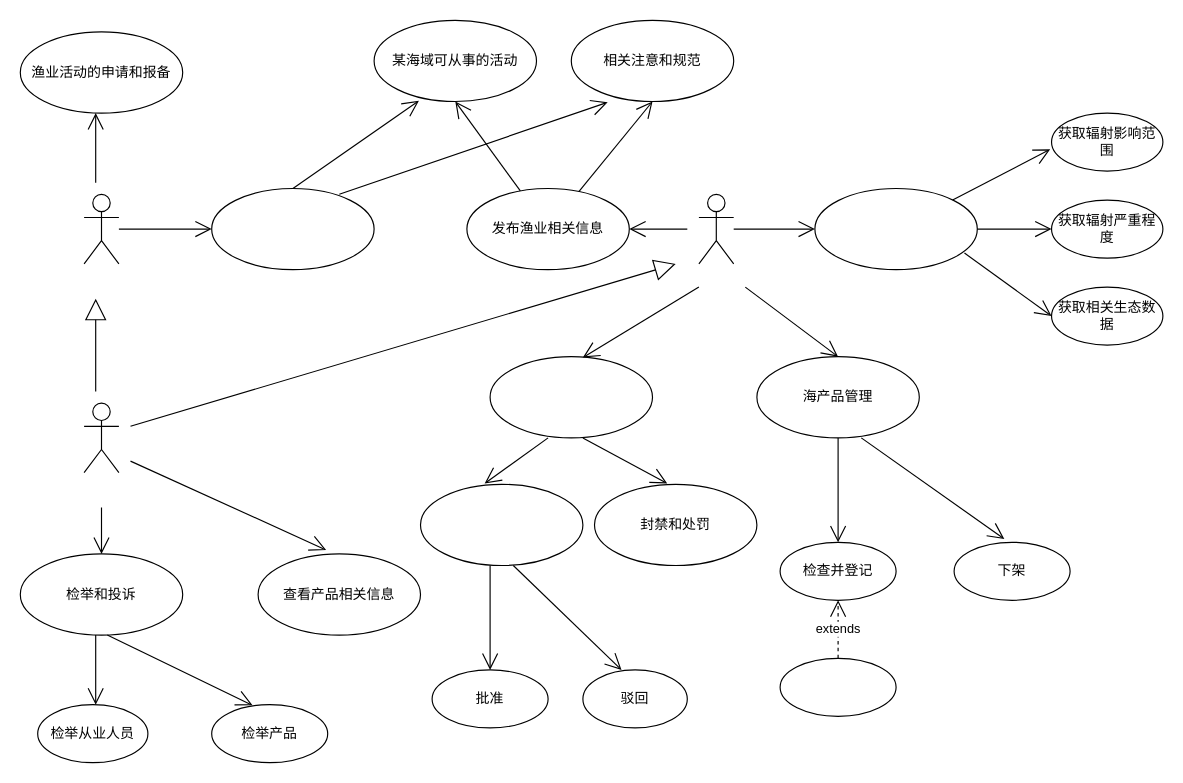
Image size: 1183x783. Some labels were removed from this diagram. The shapes that lost their labels are listed below. From the top down, each one's box as (x1, y1, x2, y2) in pixels, then its label:
(83, 193, 119, 264): 渔业相关从业者
(211, 187, 374, 270): 查看渔业相关信息
(698, 193, 734, 264): 渔业管理人员
(814, 187, 977, 270): 获取相关信息
(489, 356, 652, 438): 管理注册的从业者
(83, 402, 119, 473): 普通用户
(419, 483, 583, 566): 处理申请
(779, 657, 896, 716): 修改信息
